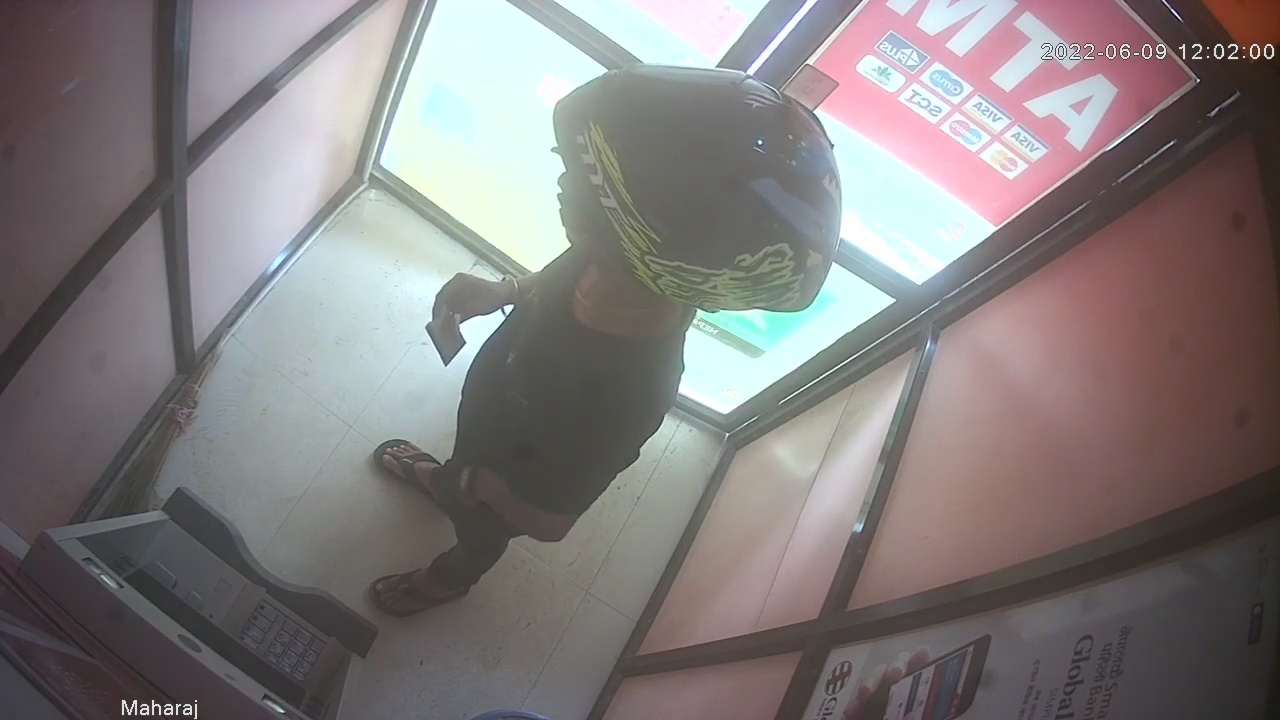helmet: (549, 64, 839, 316)
person: (367, 64, 843, 618)
